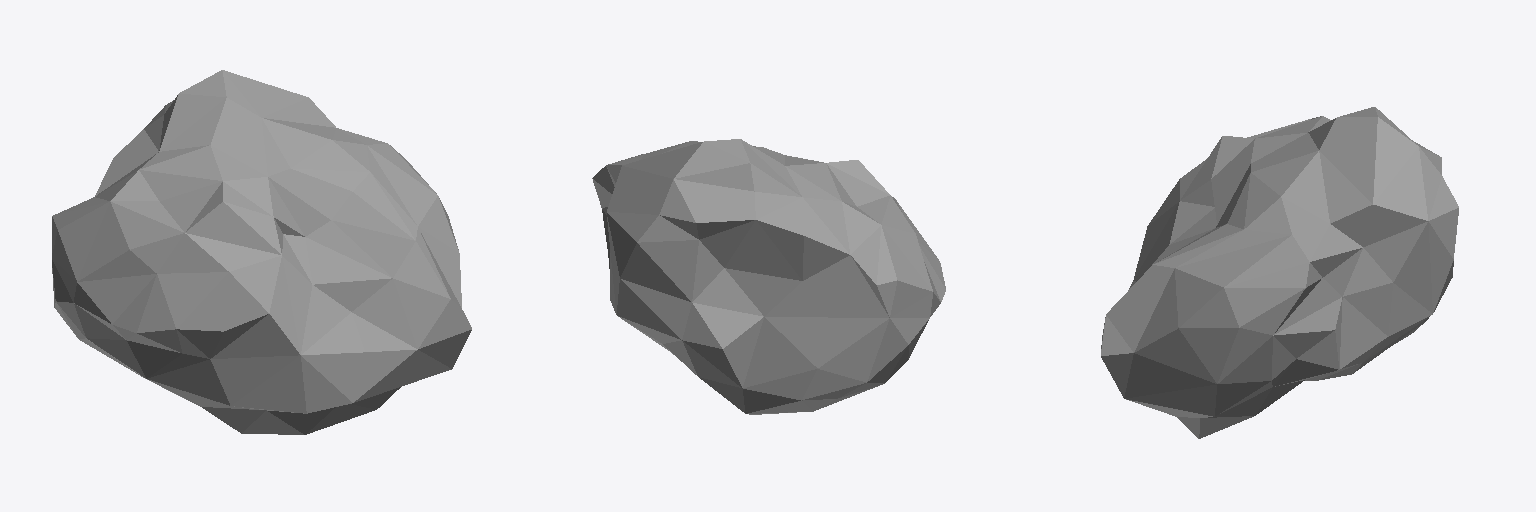
The model's file is stone.obj.
The picture shows the model from 3 angles: view 1: azimuth 30°, elevation 25°; view 2: azimuth 150°, elevation 25°; view 3: azimuth 270°, elevation 25°; orthographic projection.
Parts seen in each view (by area): view 1: stone_lp; view 2: stone_lp; view 3: stone_lp.
Boxes of the visible parts, <box> form: stone_lp: <box>52,70,471,434</box>; stone_lp: <box>592,139,945,414</box>; stone_lp: <box>1101,107,1458,438</box>.
Size of the model in its own units: 2.87 by 2.33 by 2.59.